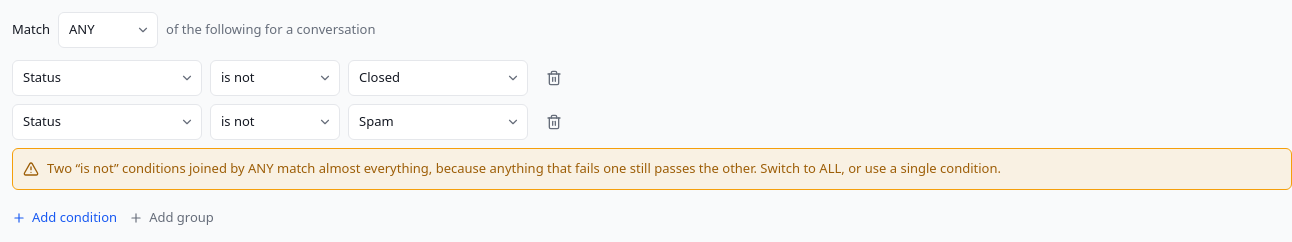
Test: the condition builder › warns about a negative OR, which matches almost everything
Expected: the message shows "match almost everything", [47,159,1001,177]
Switching to ALL makes the rule mean what the author intended, so the warning clears.
Select "ALL" in the dropdown named "Match mode" at (108, 30), box [58,12,158,48]
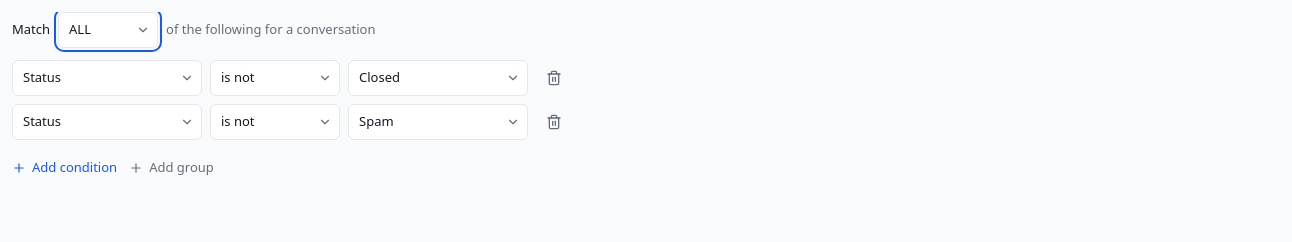
Expected: the message "Two “is not” conditions joined by ANY match almost everything, because anything" is gone
